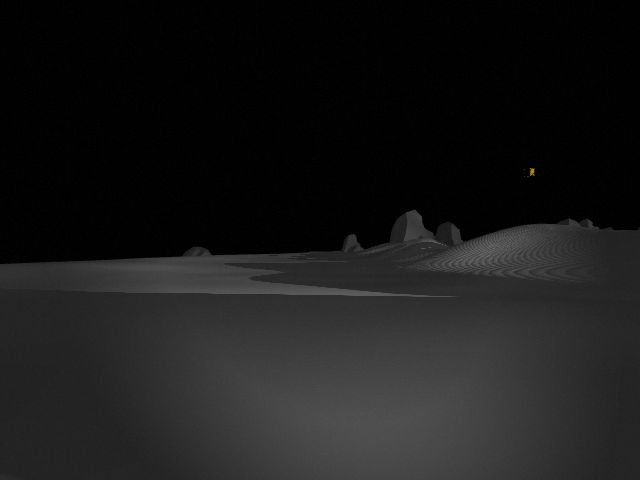cubesat: (526, 166, 538, 179)
